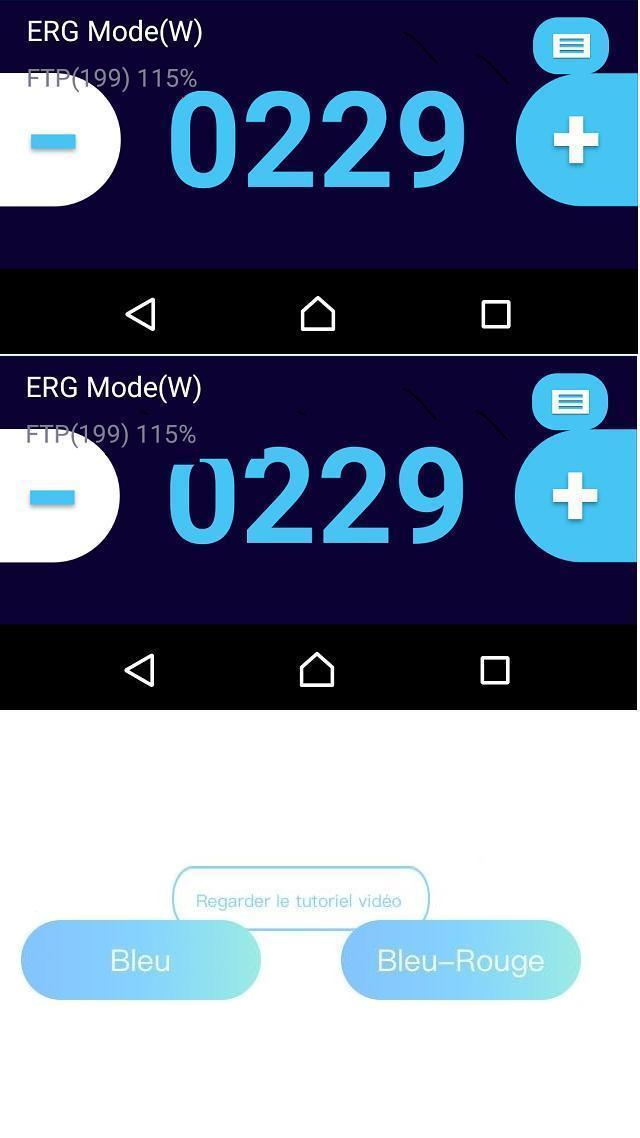Icon: (533, 374, 612, 431), (299, 290, 334, 332), (298, 652, 333, 692), (478, 652, 513, 689), (124, 294, 156, 332), (123, 653, 155, 690), (482, 297, 512, 330)
Text: (158, 442, 471, 554), (168, 84, 470, 196), (22, 12, 202, 48), (368, 946, 546, 980), (192, 886, 404, 914), (21, 371, 201, 403), (103, 944, 176, 978)
TextButton: (338, 918, 586, 1005), (22, 918, 262, 1004), (170, 864, 436, 931), (510, 428, 638, 564), (514, 73, 640, 210), (0, 71, 121, 206), (1, 428, 120, 564), (534, 17, 612, 74), (30, 132, 79, 156), (29, 487, 78, 509)
WS1: (19, 416, 132, 474), (24, 59, 136, 111)
